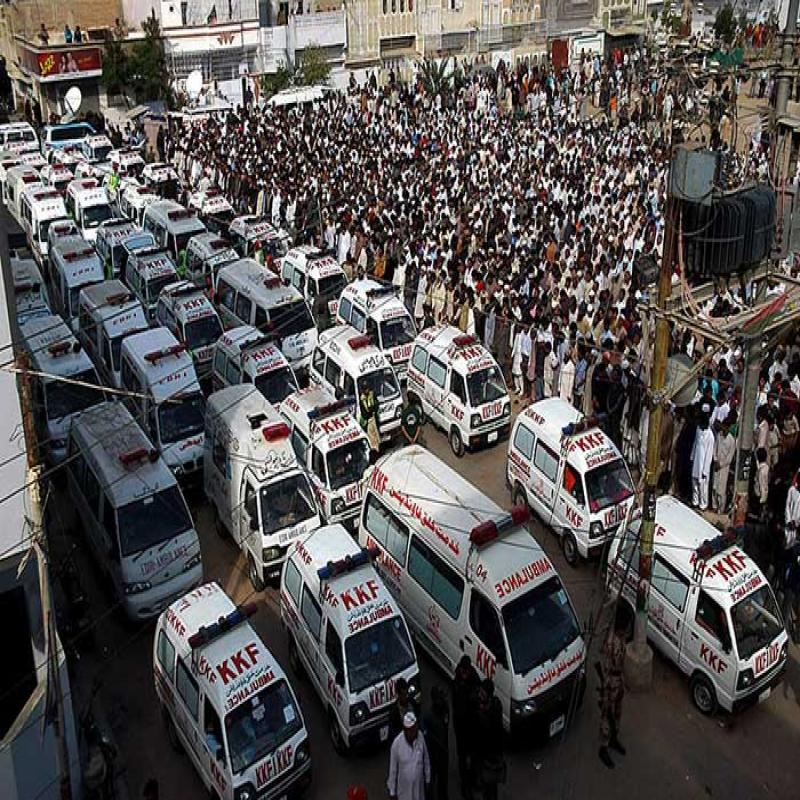ambulance: (344, 432, 596, 756), (591, 486, 792, 759), (268, 519, 438, 778), (48, 378, 224, 614), (139, 579, 324, 800), (175, 361, 358, 583), (501, 376, 652, 578), (286, 305, 424, 461), (410, 305, 522, 458)
